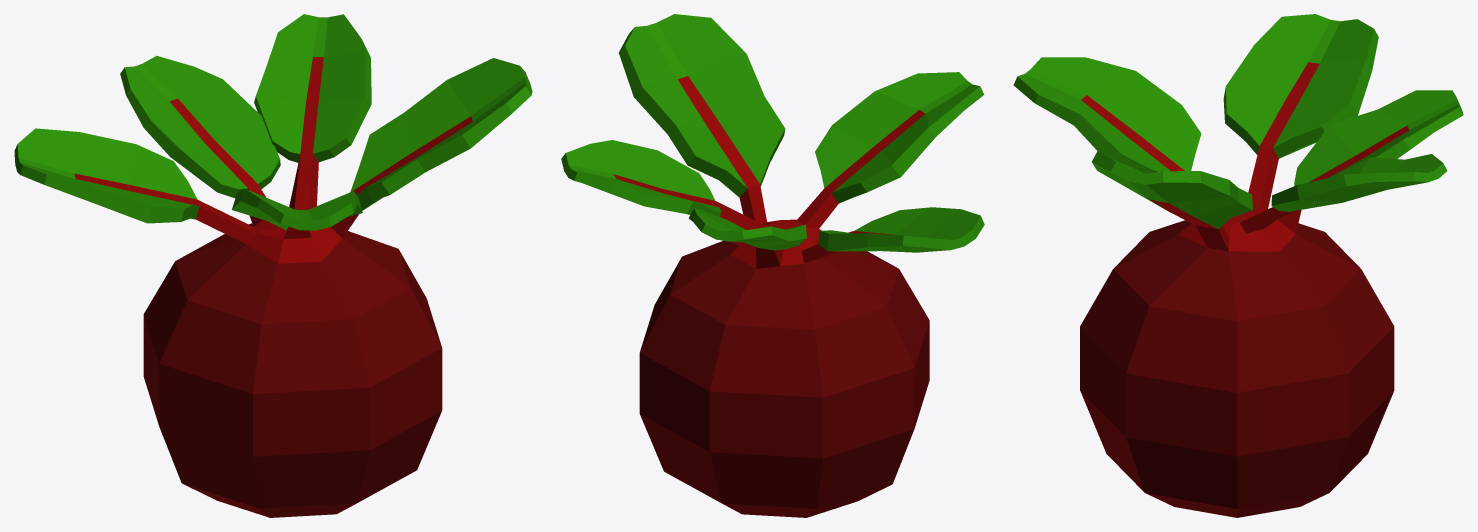
The model's file is beetroot01.obj.
3 views of the same model, side by side, from view 1: azimuth 30°, elevation 25°; view 2: azimuth 150°, elevation 25°; view 3: azimuth 270°, elevation 25° (orthographic). The views are drawn at different scales.
Visible parts, largest first — view 1: Cylinder_Cylinder.001; view 2: Cylinder_Cylinder.001; view 3: Cylinder_Cylinder.001.
Boxes of the visible parts, x1,y1,x2,y2 form: Cylinder_Cylinder.001: [14, 14, 532, 517]; Cylinder_Cylinder.001: [561, 14, 984, 517]; Cylinder_Cylinder.001: [1013, 14, 1463, 517].
Size of the model in its own units: 0.1092 by 0.1008 by 0.097.
1 material, 1 textured.
